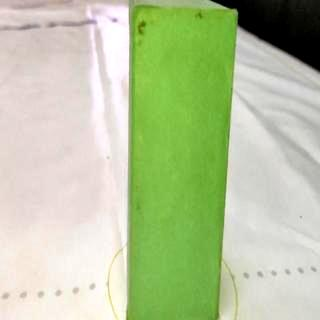greenbox: (126, 0, 238, 320)
